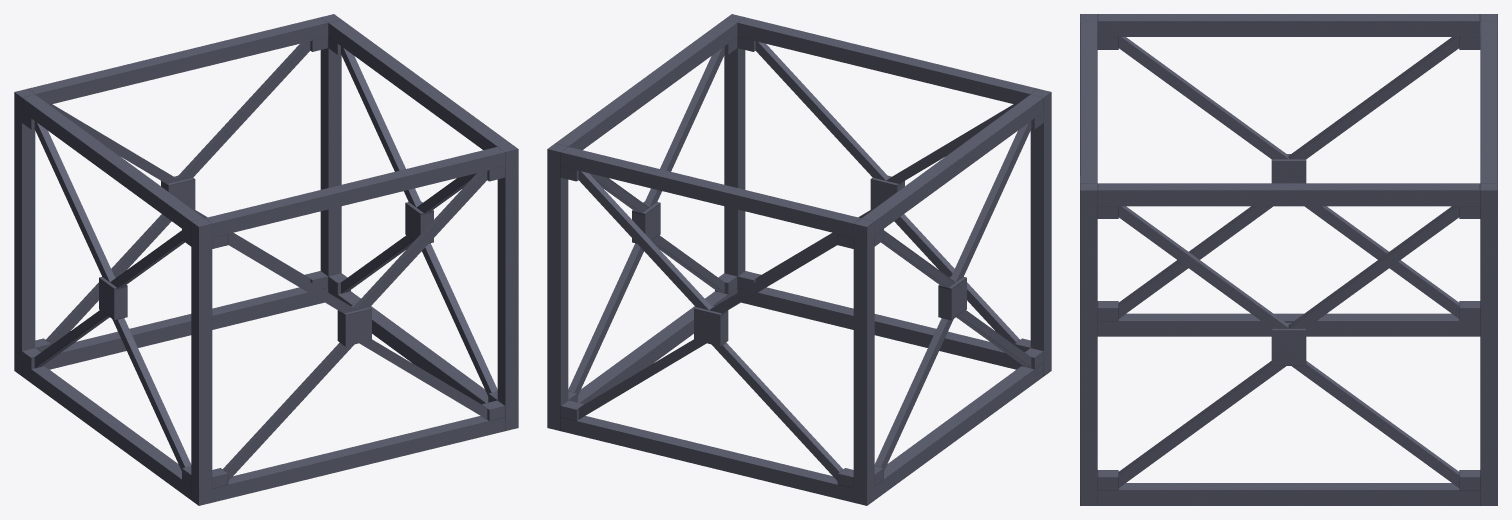
The model's file is Platerform_Metal_05.FBX.
The picture shows the model from 3 angles, left to right: view 1: azimuth 30°, elevation 25°; view 2: azimuth 150°, elevation 25°; view 3: azimuth 270°, elevation 25°; orthographic projection. The views are drawn at different scales.
Visible parts, largest first — view 1: Platerform_Metal_05; view 2: Platerform_Metal_05; view 3: Platerform_Metal_05.
Boxes of the visible parts, left/top/right/bottom form: Platerform_Metal_05: left=14, top=14, right=518, bottom=505; Platerform_Metal_05: left=547, top=14, right=1051, bottom=505; Platerform_Metal_05: left=1080, top=14, right=1497, bottom=505.
Size of the model in its own units: 6 by 5 by 6.
Materials: 2 (2 with a texture image).
